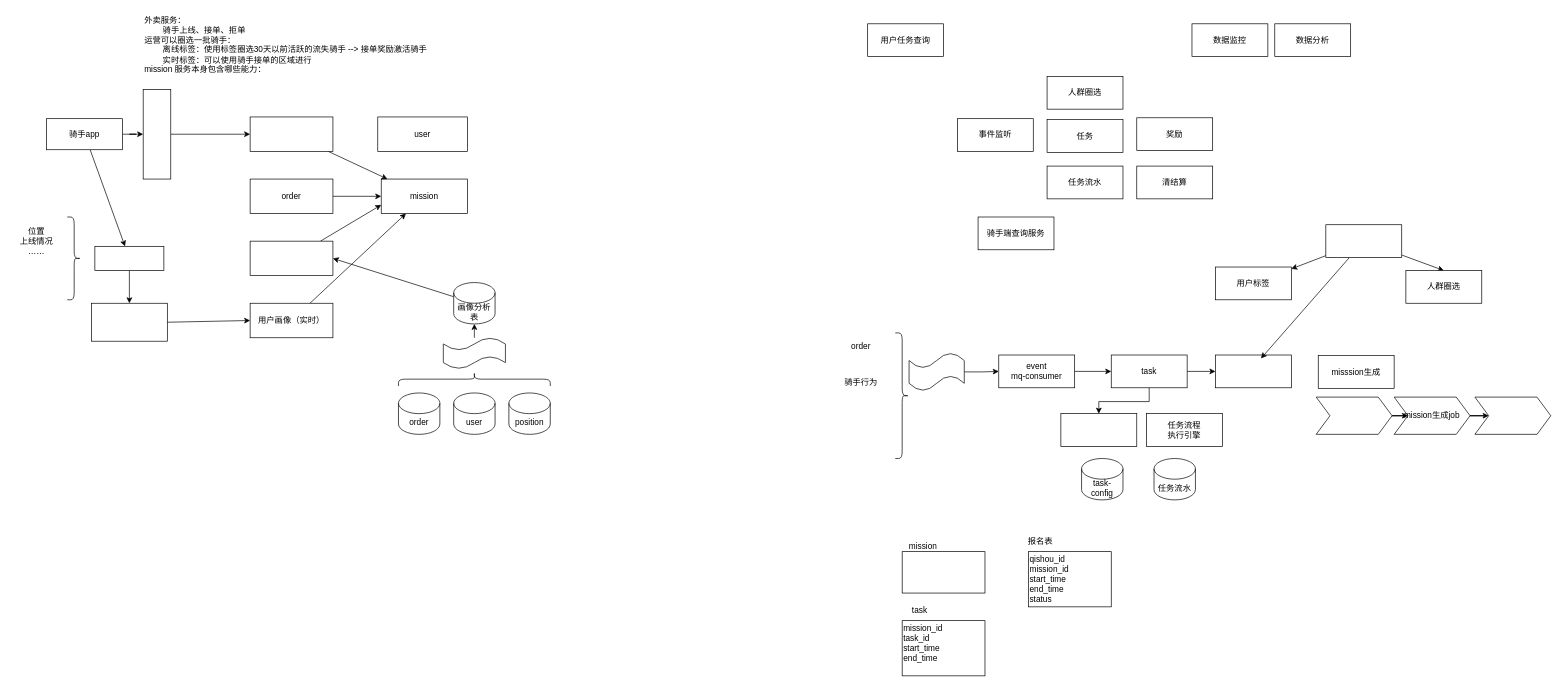
The diagram is 1563 pixels wide and 688 high, and some of its shapes have lost their labels. Here are the shapes that lost their labels. From the top down, the box of each, then its label:
(249, 116, 333, 151): 骑手服务
(94, 246, 164, 270): 点位收集
(249, 240, 333, 276): 用户画像（离线）
(1325, 224, 1402, 258): 运营端管理服务
(91, 303, 167, 341): 实时计算平台
(443, 337, 505, 369): 大数据处理hive
(908, 352, 964, 391): mq
(1215, 354, 1291, 388): 奖励服务
(1060, 413, 1137, 446): 日志记录
(1315, 396, 1392, 434): 圈选
(1474, 396, 1551, 434): 报名信息落地
(901, 551, 985, 593): misssion_id config
